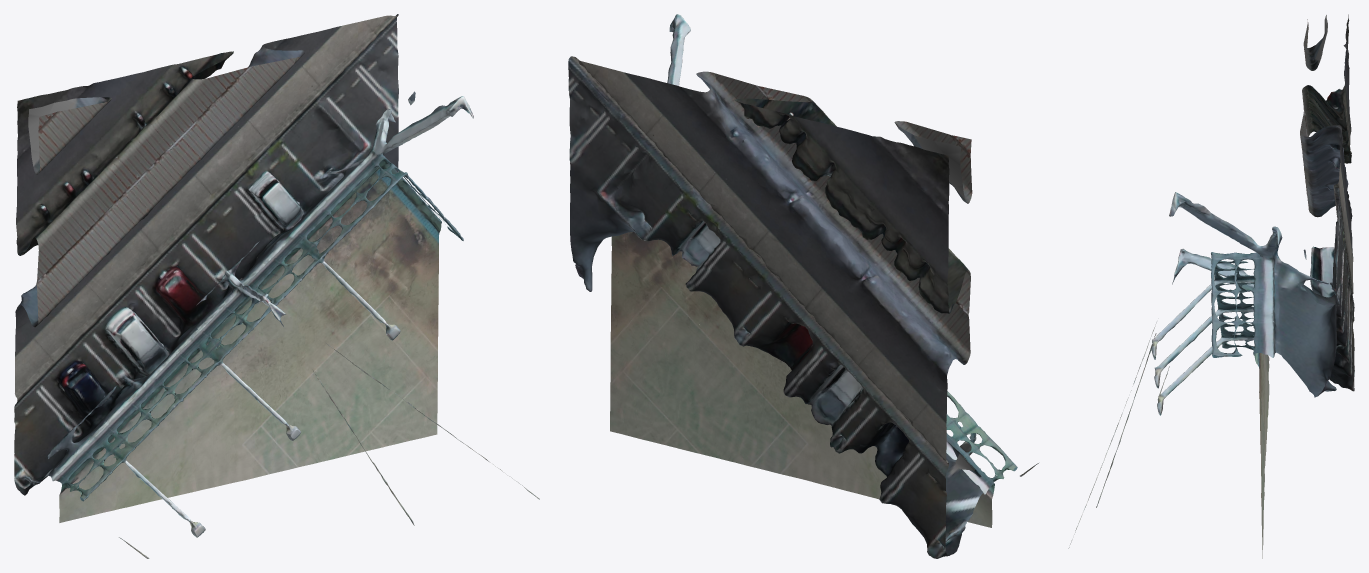
File: Tile_+017_+019.fbx
3 renders of one model, left to right at view 1: azimuth 30°, elevation 25°; view 2: azimuth 150°, elevation 25°; view 3: azimuth 270°, elevation 25°, orthographic. The views are drawn at different scales.
Visible parts, largest first — view 1: DefaultName; view 2: DefaultName; view 3: DefaultName.
Part boxes in pixels (x1,y1,x2,y2): DefaultName: [14, 14, 539, 558]; DefaultName: [568, 14, 1038, 558]; DefaultName: [1068, 14, 1354, 558].
Bounding box in the file's own units: 22.54 × 22.54 × 15.76.
